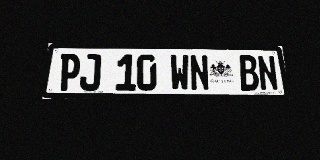0: (136, 54, 156, 91)
1: (116, 54, 136, 91)
B: (238, 55, 260, 91)
J: (79, 54, 101, 91)
N: (256, 55, 279, 91), (189, 55, 210, 91)
P: (58, 53, 81, 91)
W: (170, 55, 190, 91)
